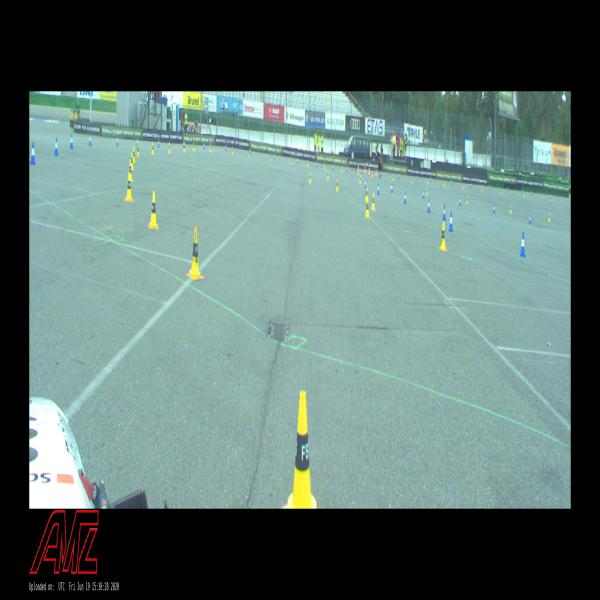blue_cone: (519, 232, 526, 257), (30, 142, 36, 164), (449, 211, 454, 232), (54, 137, 59, 155), (442, 204, 446, 221), (70, 133, 74, 148), (427, 198, 430, 213), (89, 132, 92, 146), (136, 136, 139, 147), (116, 136, 119, 146), (404, 191, 406, 204), (378, 183, 380, 195), (493, 203, 495, 214), (364, 178, 366, 189), (422, 189, 424, 199), (459, 196, 461, 206), (158, 138, 160, 148), (529, 214, 531, 224), (183, 138, 185, 148), (391, 184, 393, 193), (203, 142, 205, 150), (225, 144, 226, 152)
large_orange_cone: (358, 162, 360, 175), (375, 167, 377, 179), (364, 163, 366, 175), (368, 166, 370, 177)
yellow_cone: (284, 391, 316, 508), (187, 227, 203, 279), (149, 191, 159, 230), (439, 222, 446, 250), (126, 172, 132, 202), (129, 160, 133, 182), (366, 198, 370, 218), (371, 192, 374, 210), (131, 152, 134, 170), (136, 144, 140, 157), (168, 142, 171, 153), (133, 147, 135, 163), (365, 186, 367, 201), (336, 179, 338, 191), (152, 142, 154, 154), (425, 187, 428, 195), (309, 172, 311, 183), (327, 169, 329, 180), (193, 142, 195, 152), (548, 212, 550, 222), (359, 174, 361, 184), (184, 142, 186, 152), (466, 195, 468, 204), (510, 205, 512, 213), (248, 149, 250, 157), (411, 177, 413, 184), (523, 191, 525, 197), (210, 143, 211, 152), (232, 146, 233, 154), (427, 178, 428, 185), (307, 160, 308, 166), (463, 182, 464, 188), (372, 170, 372, 178)
